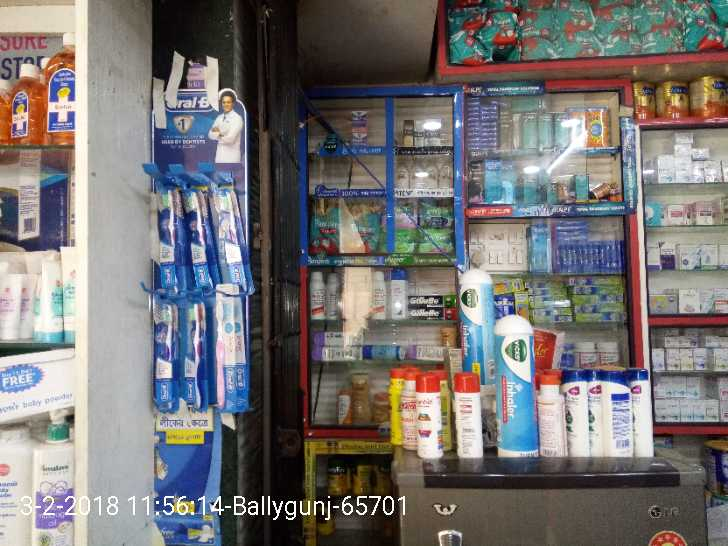oralcare: (151, 91, 245, 418)
vicks: (497, 315, 536, 458), (460, 269, 496, 390), (347, 105, 372, 147)
